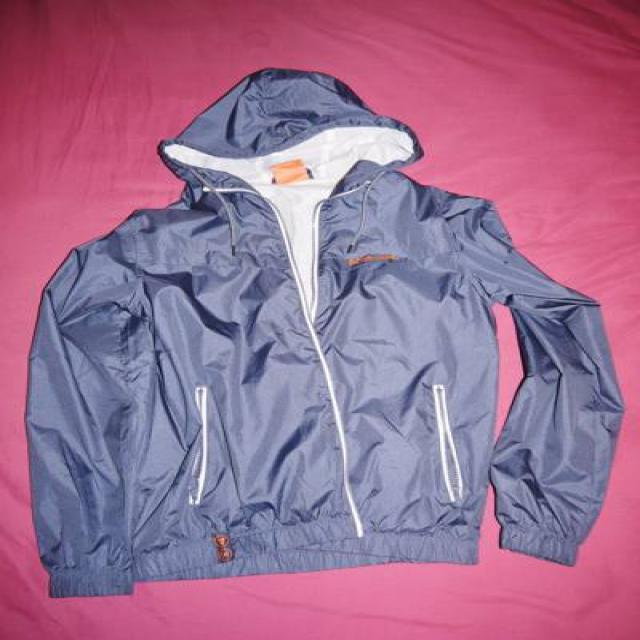Clothes -Biodegradable-: (28, 67, 620, 597)
